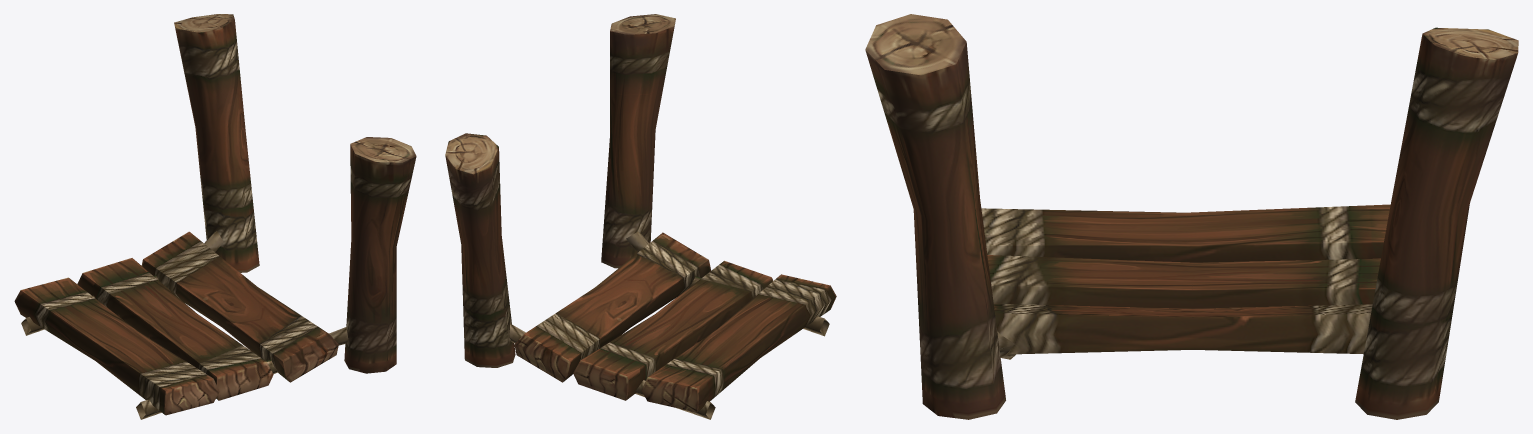
Rendered from rope_bridge_start_l_small.fbx.
The picture shows the model from 3 angles, left to right: view 1: azimuth 30°, elevation 25°; view 2: azimuth 150°, elevation 25°; view 3: azimuth 270°, elevation 25°; orthographic projection. The views are drawn at different scales.
Parts seen in each view (by area): view 1: rope_bridge_start_l_small; view 2: rope_bridge_start_l_small; view 3: rope_bridge_start_l_small.
Part boxes in pixels (<box>): rope_bridge_start_l_small: <box>14,14,416,419</box>; rope_bridge_start_l_small: <box>445,14,836,419</box>; rope_bridge_start_l_small: <box>865,14,1518,419</box>.
Size of the model in its own units: 127 by 123 by 186.
